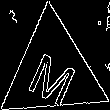M_NE: (24, 38, 82, 103)
